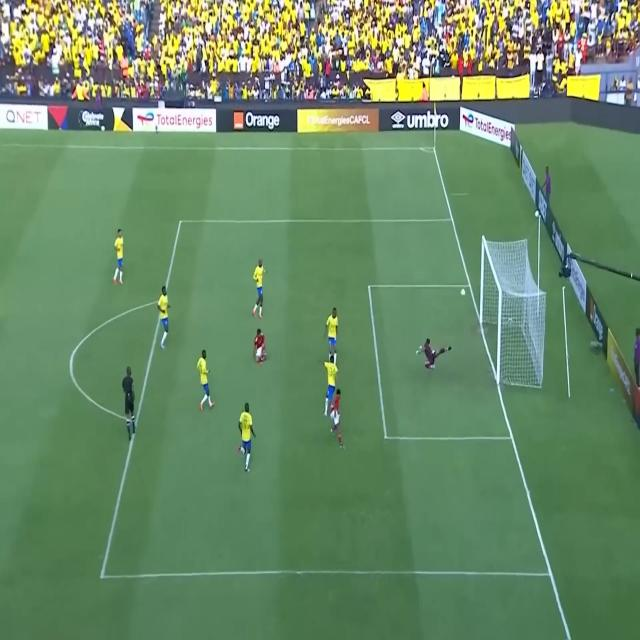Ball: (460, 285, 466, 300)
Keeper: (418, 336, 452, 372)
Player: (197, 351, 218, 414), (238, 402, 256, 472), (329, 388, 346, 452), (324, 308, 340, 369), (113, 221, 127, 287), (321, 358, 336, 418), (157, 284, 170, 348), (254, 259, 266, 319), (252, 330, 268, 366)
Ref: (123, 363, 138, 441)
